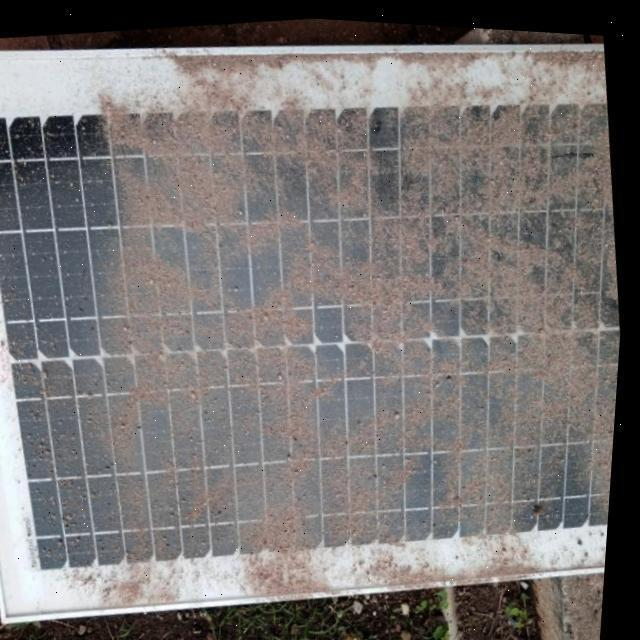Anomaly Solar Panel: (0, 0, 640, 619)
Surface Contaminant: (4, 65, 624, 606)
